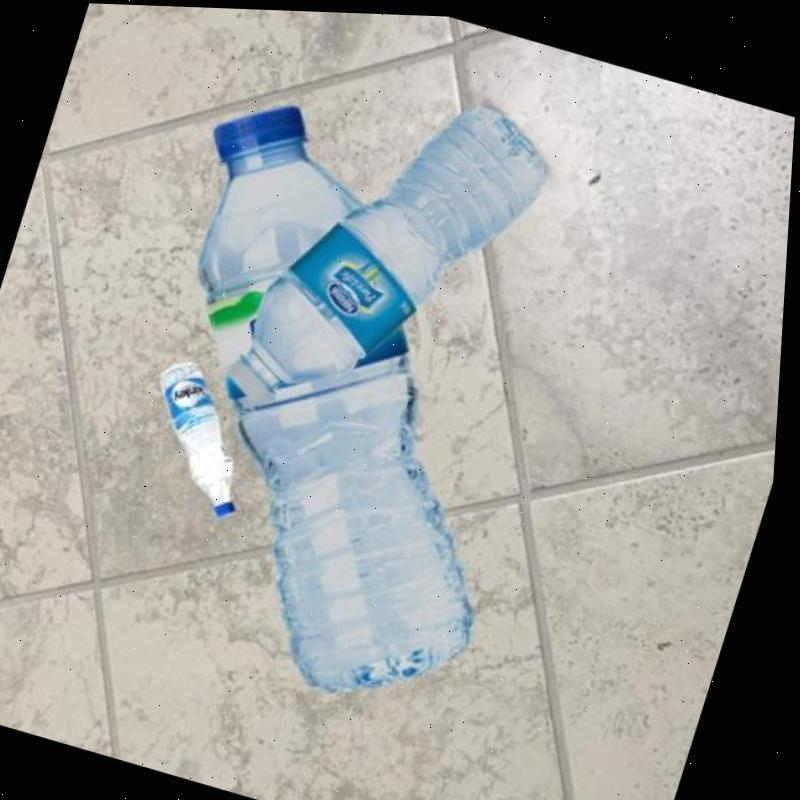botella: (63, 81, 608, 726), (221, 52, 566, 463), (126, 349, 280, 520)
